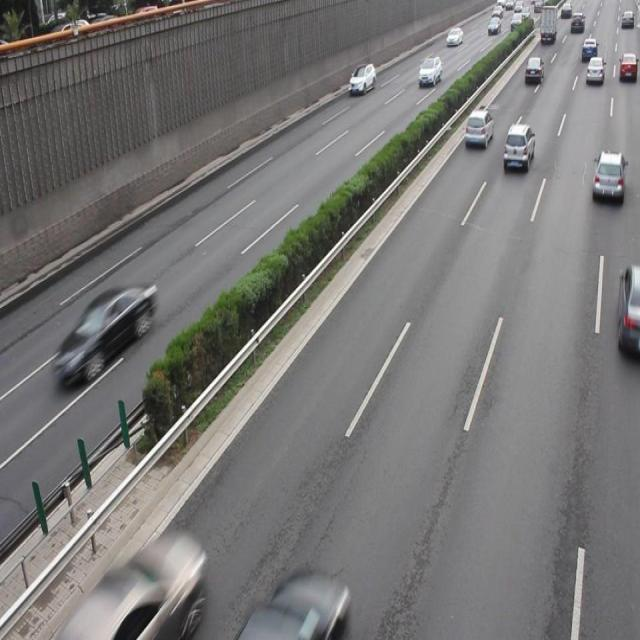car: (81, 533, 204, 640), (53, 284, 156, 386), (616, 264, 640, 352), (591, 149, 624, 204), (502, 123, 534, 169), (464, 108, 492, 146)
